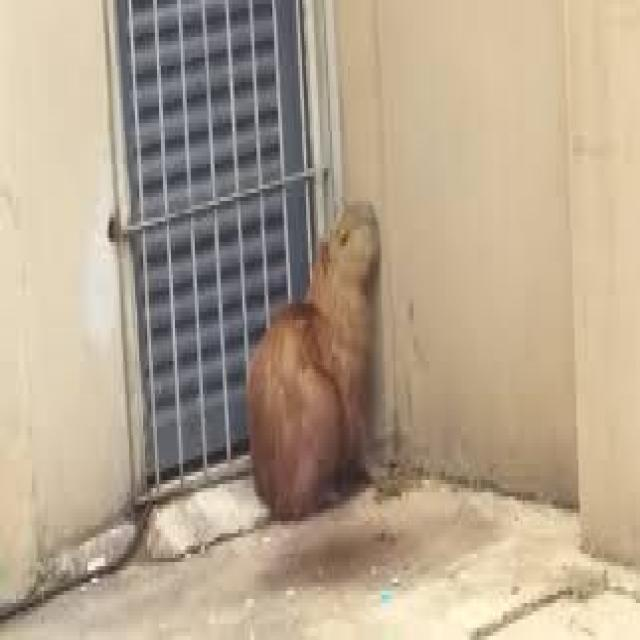capy: (245, 193, 382, 511)
